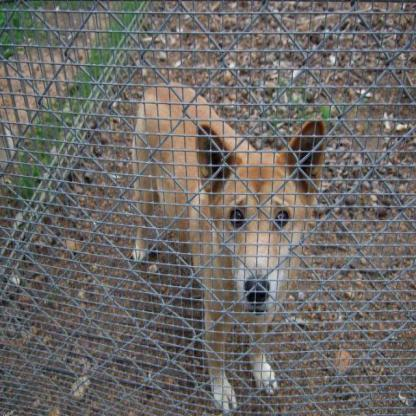dingo: (131, 80, 327, 414)
